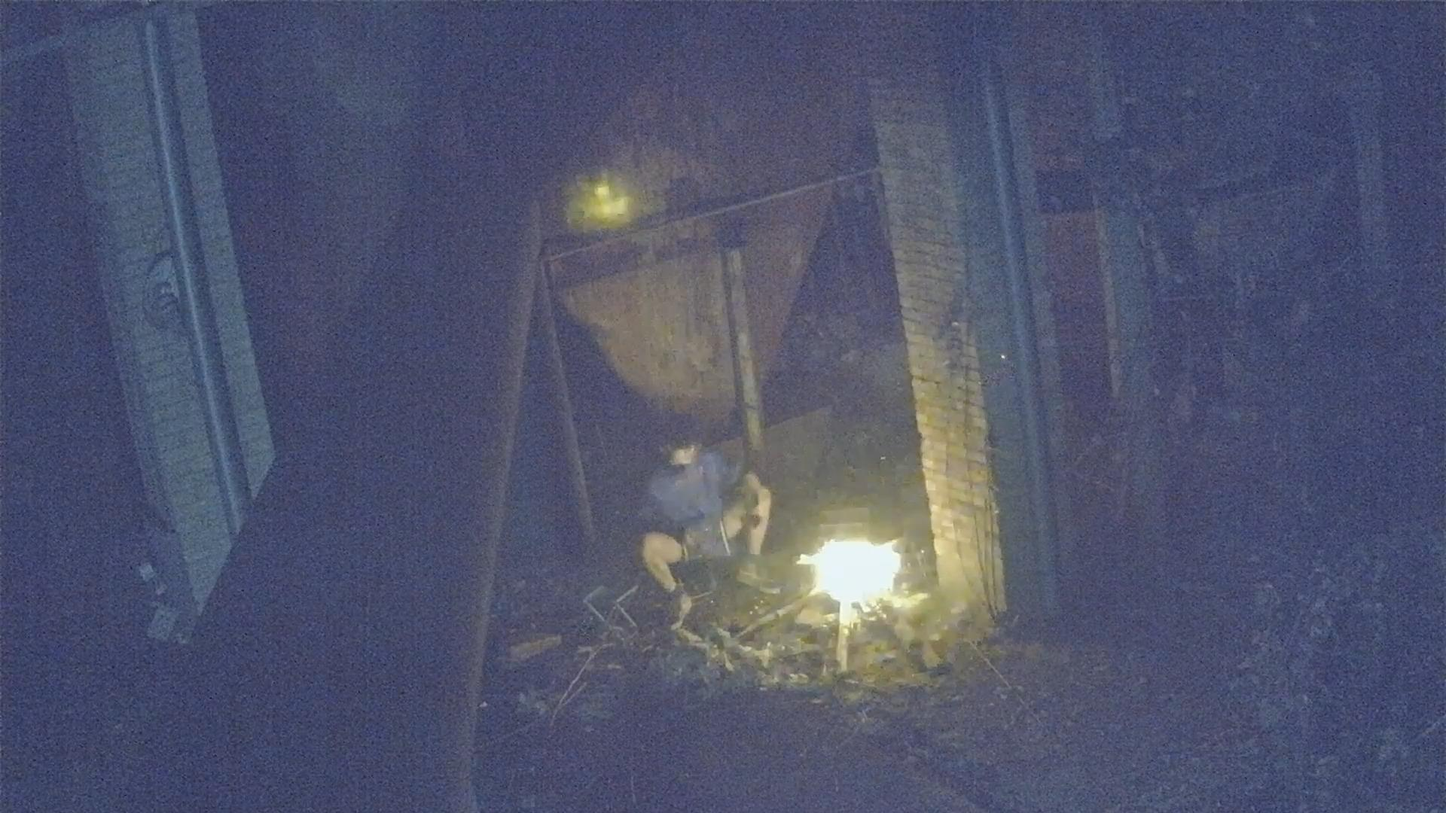fire: (807, 540, 901, 604)
